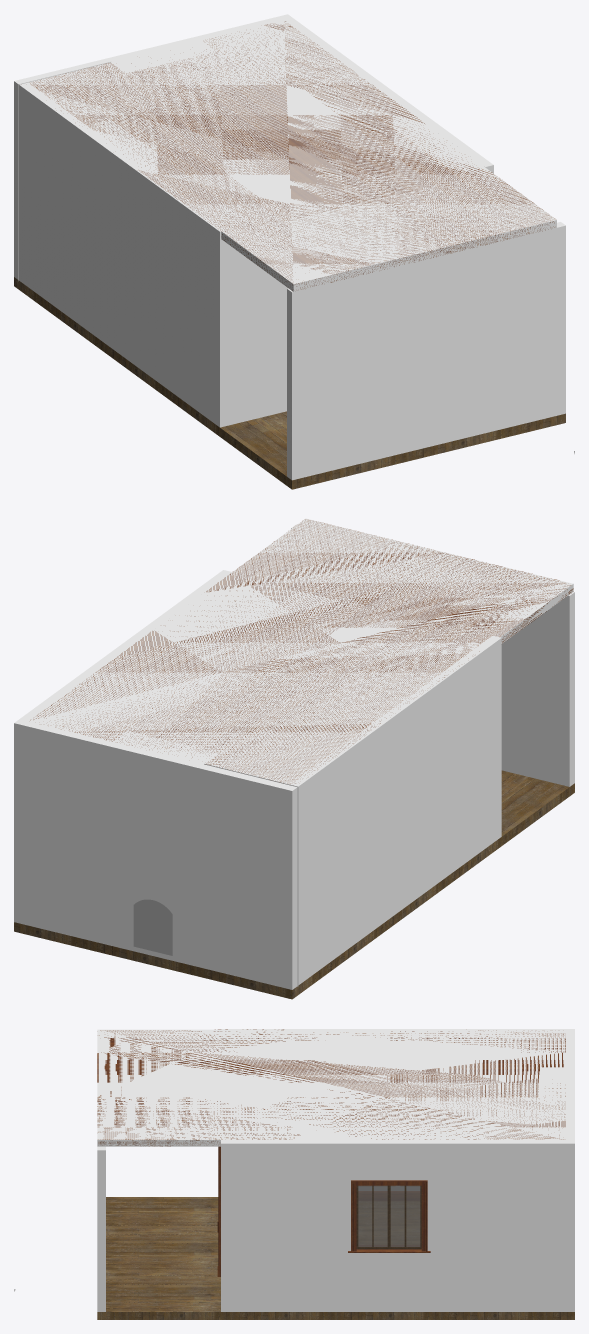
The model's file is VICTORIAN_ROOM_02.dae.
The picture shows the model from 3 angles, top to bottom: view 1: azimuth 30°, elevation 25°; view 2: azimuth 150°, elevation 25°; view 3: azimuth 270°, elevation 25°; orthographic projection. The views are drawn at different scales.
Parts seen in each view (by area): view 1: Component_103, Component_34, Component_38, Component_15, Component_1, Component_2, Component_6; view 2: Component_103, Component_2 (×2), Component_38, Component_34, Component_1, Component_6; view 3: Component_6, Component_103, Component_1, Group_4 (×4), Component_2, Component_34, Component_38, Component_40, base57a, Component_44, Component_41.
Part boxes in pixels (x1,y1,x2,y2): Component_103: (28, 20, 556, 291); Component_34: (287, 222, 565, 480); Component_38: (14, 79, 228, 427); Component_15: (229, 245, 287, 425); Component_1: (14, 277, 565, 489); Component_2: (14, 16, 283, 280); Component_6: (279, 14, 493, 173); Component_103: (28, 518, 573, 784); Component_2 (×2): (23, 721, 298, 989); Component_38: (283, 635, 501, 987); Component_34: (291, 524, 574, 786); Component_1: (14, 770, 574, 999); Component_6: (14, 570, 231, 924); Component_6: (221, 1140, 574, 1311); Component_103: (97, 1029, 565, 1146); Component_1: (97, 1197, 574, 1319); Group_4 (×4): (358, 1185, 420, 1246); Component_2: (540, 1029, 574, 1139); Component_34: (97, 1146, 105, 1311); Component_38: (221, 1029, 574, 1032); Component_40: (351, 1180, 427, 1251); base57a: (358, 1191, 419, 1200); Component_44: (356, 1185, 389, 1249); Component_41: (348, 1245, 430, 1252).
Bounding box in the file's own units: 186 × 380 × 132.
